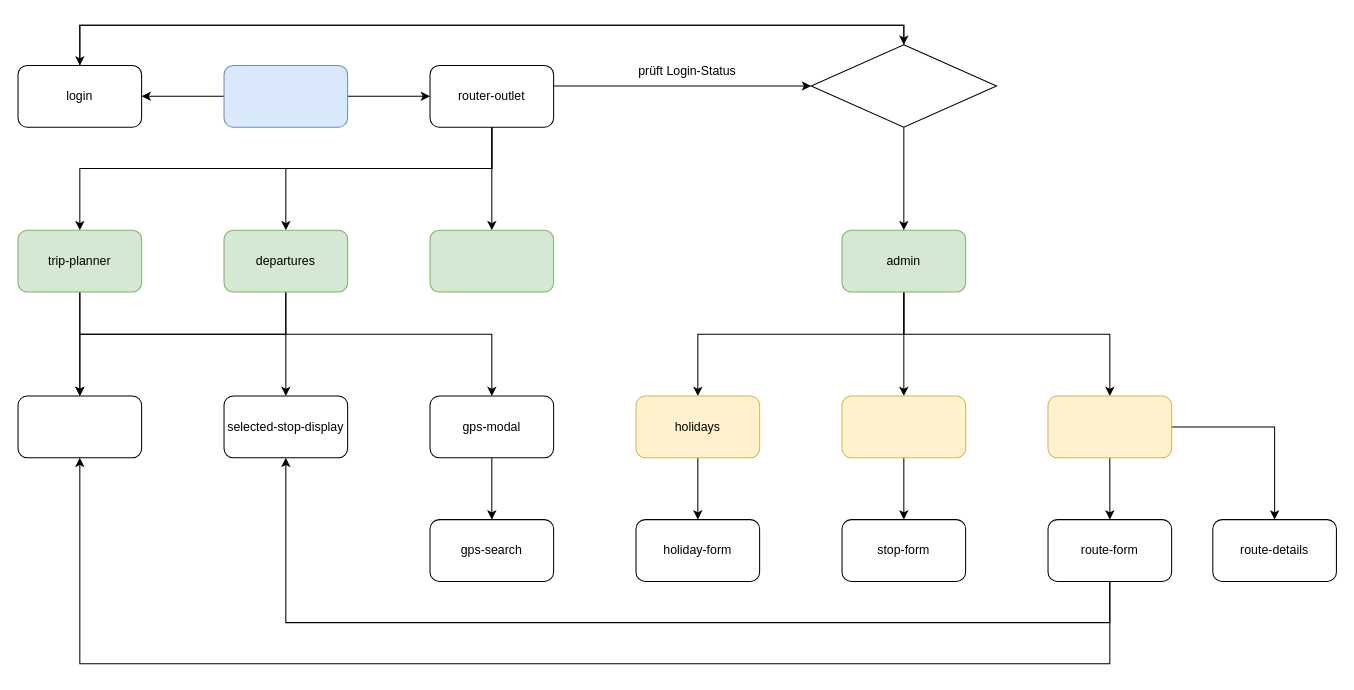
This 1354x690 diagram has some shape labels left out. The centre of each missing label's shape, as x and y in pixels:
app: the point at 285,95
can-navigate-to-admin.guard: the point at 903,85
delay-statistics: the point at 491,260
routes: the point at 1109,426
stop-search: the point at 79,426
stops: the point at 903,426
